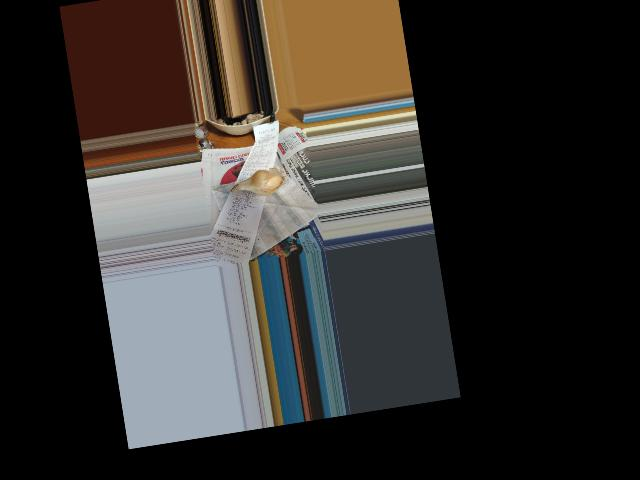onion: (235, 166, 285, 200)
